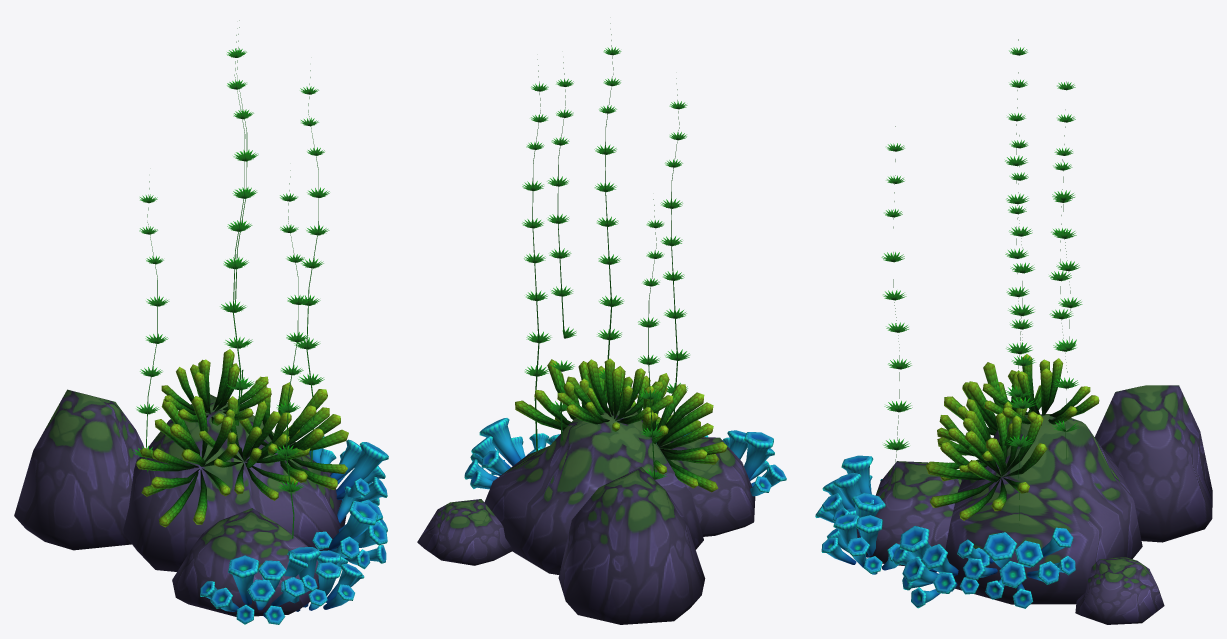
Rendered from CoralSet_03.FBX.
3 views of the same model, side by side, from view 1: azimuth 30°, elevation 25°; view 2: azimuth 150°, elevation 25°; view 3: azimuth 270°, elevation 25° (orthographic). The views are drawn at different scales.
Parts seen in each view (by area): view 1: CoralSet_03, Line276, Line272, Plane334; view 2: CoralSet_03, Line276, Plane334, Line272; view 3: CoralSet_03, Line272, Line276, Plane334.
Boxes of the visible parts, x1,y1,x2,y2 form: CoralSet_03: (14,389,346,616); Line276: (136,349,348,527); Line272: (200,436,388,624); Plane334: (133,20,329,538); CoralSet_03: (417,407,755,624); Line276: (515,358,727,492); Plane334: (522,23,689,479); Line272: (464,418,786,496); CoralSet_03: (856,385,1212,624); Line272: (815,455,1075,608); Line276: (925,354,1099,520); Plane334: (881,39,1082,520).
Size of the model in its own units: 14299 by 25087 by 16501.
